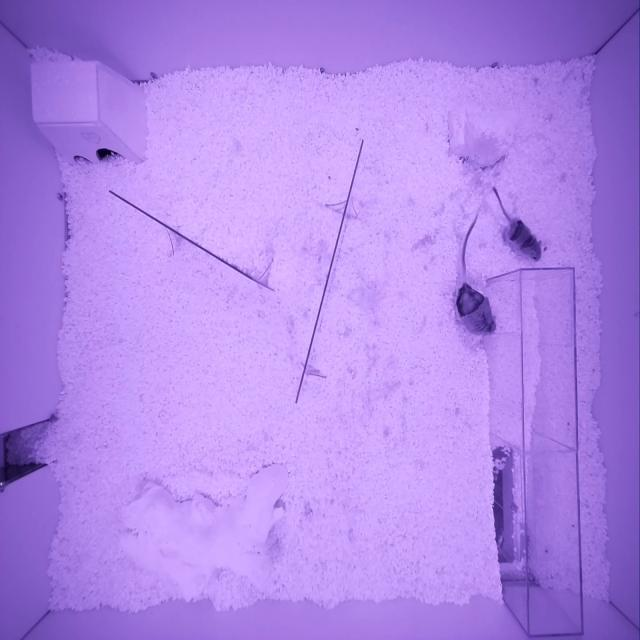adult_back: (456, 283, 496, 336)
pup_h_stripe: (507, 218, 542, 262)
